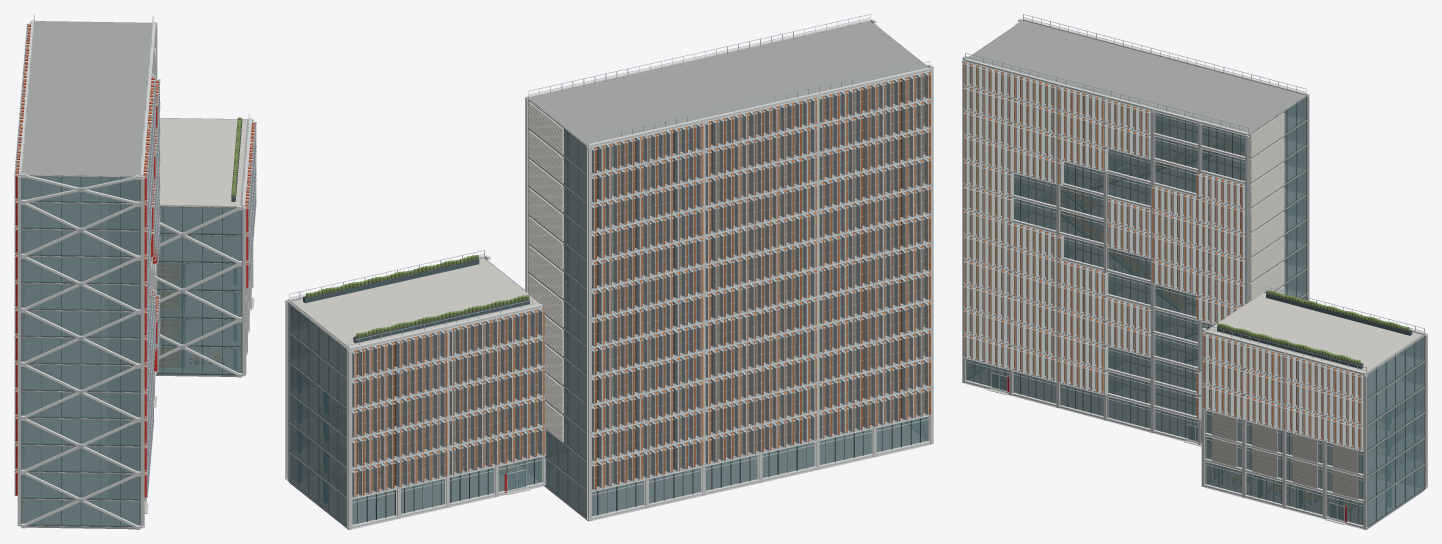
Rendered from cbg-exterior-5bf87a3bb874.glb.
3 views of the same model, side by side, from view 1: azimuth 30°, elevation 25°; view 2: azimuth 150°, elevation 25°; view 3: azimuth 270°, elevation 25° (orthographic). The views are drawn at different scales.
Visible parts, largest first — view 1: CBG.001; view 2: CBG.001; view 3: CBG.001.
Part boxes in pixels (x1=…): CBG.001: x1=14, y1=14, x2=256, y2=529; CBG.001: x1=285, y1=14, x2=933, y2=529; CBG.001: x1=962, y1=14, x2=1427, y2=529.
Bounding box in the file's own units: 66.1 × 53.56 × 68.49.
